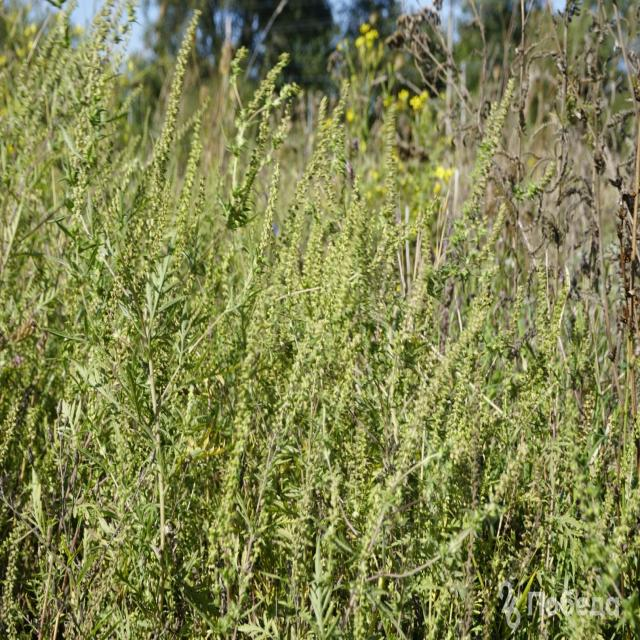ambrosia: (125, 1, 272, 602), (310, 155, 510, 453), (11, 301, 185, 566), (530, 264, 600, 461)
